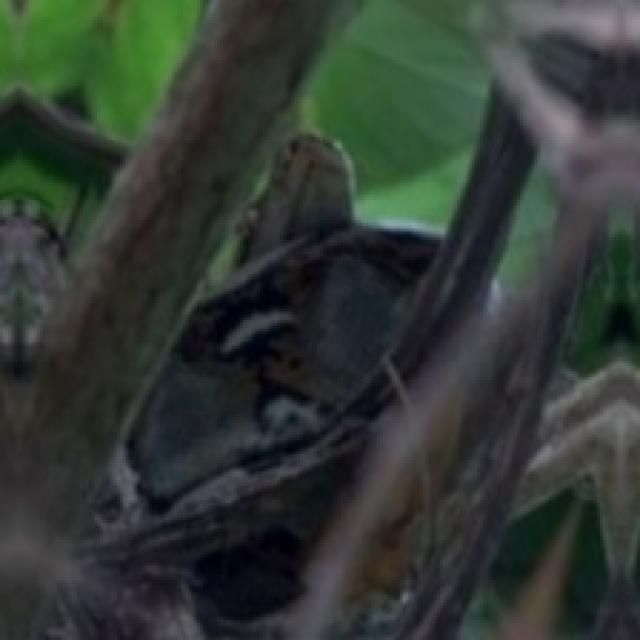reticulated python: (134, 135, 435, 505)
